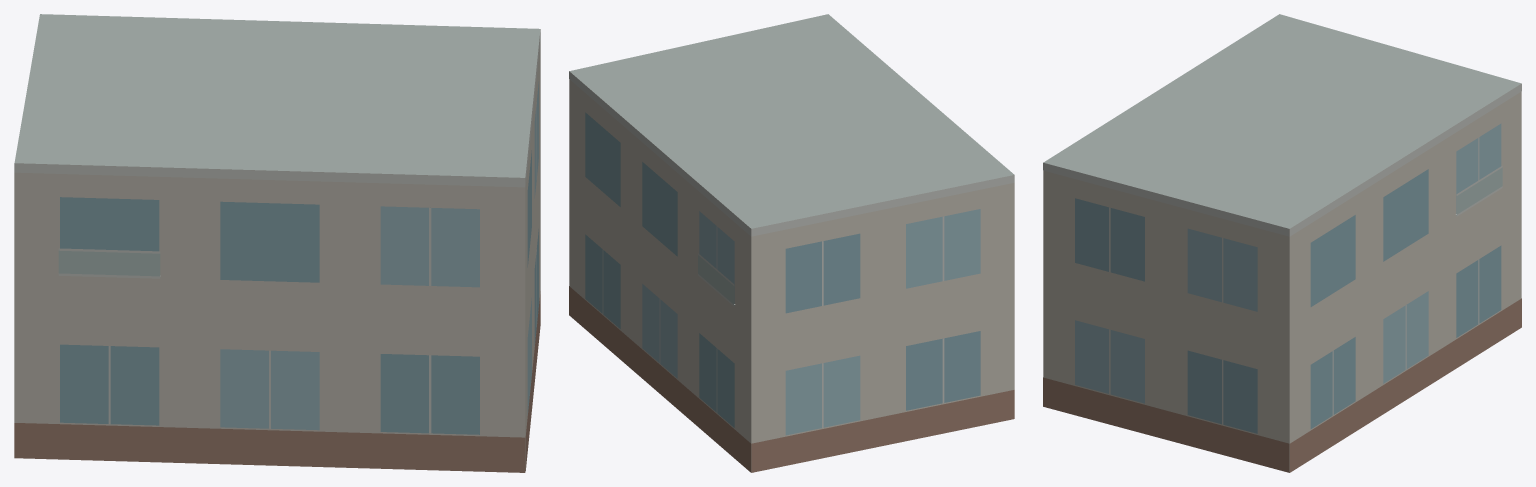
Rendered from survey-upis-32640649.glb.
3 renders of one model, left to right at view 1: azimuth 30°, elevation 25°; view 2: azimuth 150°, elevation 25°; view 3: azimuth 270°, elevation 25°, orthographic. The views are drawn at different scales.
Parts seen in each view (by area): view 1: survey-upis-32640649.tmp; view 2: survey-upis-32640649.tmp; view 3: survey-upis-32640649.tmp.
Part boxes in pixels (<box>): survey-upis-32640649.tmp: <box>14,14,540,472</box>; survey-upis-32640649.tmp: <box>569,14,1014,472</box>; survey-upis-32640649.tmp: <box>1043,14,1521,472</box>.
Bounding box in the file's own units: 14.36 × 7.6 × 13.52.
